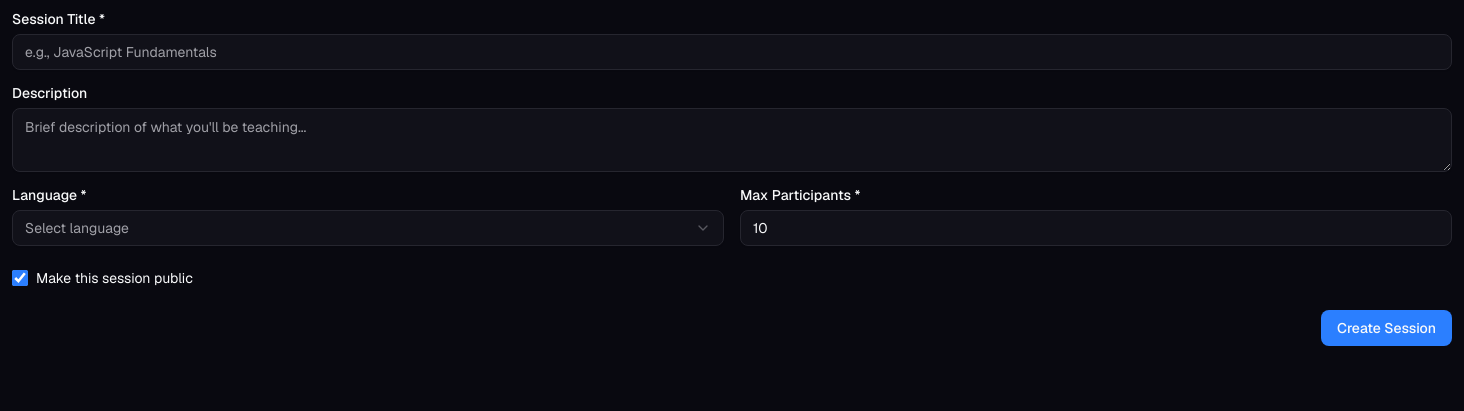
Test: CreateSessionForm › validates required fields
The width and height of the screenshot is (1464, 411).
Click the button "Create Session": click(1386, 328) left=1321, top=310, right=1452, bottom=346
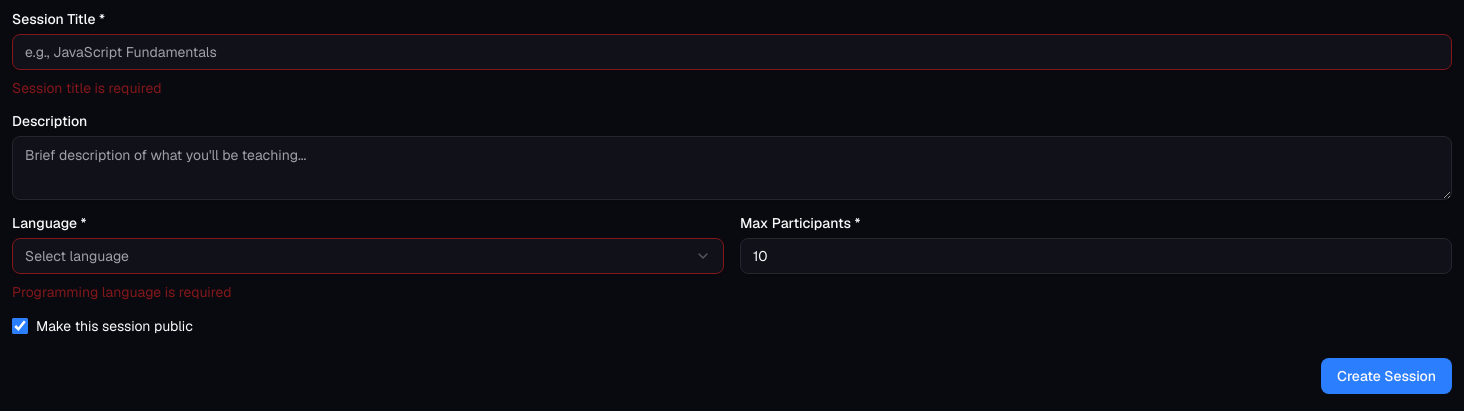
Check: the text "Session title is required" is shown, box left=12, top=79, right=162, bottom=97
